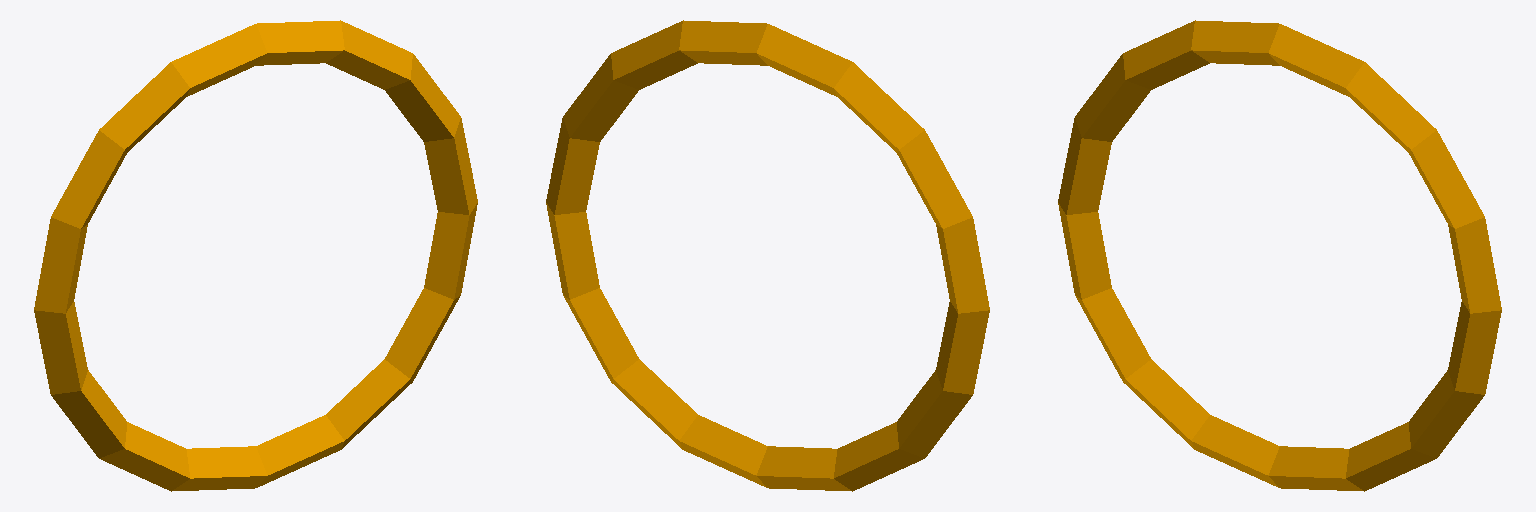
The robot description file, URDF, robot "hoop":
<robot name="hoop" >
    <link name="body">
        <inertial>
            <origin rpy="0 0 0" xyz="0.0 0.0 0.0"/>
            <mass value="1.0"/>
            <inertia ixx="1.0" ixy="0.0" ixz="0.0" iyy="1.0" iyz="0.0" izz="1.0"/>
        </inertial>
        <visual>
            <origin rpy="0 0 0" xyz="0.0 0 0.0"/>
            <geometry name="hoop_visual">
                <mesh filename="hoop.obj" scale="0.5 0.5 0.5"/>
            </geometry>
            <material name="Gray"/>
        </visual>
        <collision>
            <origin rpy="0 0 0" xyz="0.0 0.0 0.0"/>
            <geometry name="hoop_collision">
                <mesh filename="hoop.obj" scale="0.5 0.5 0.5"/>
            </geometry>
        </collision>
    </link>
        
    <material name="Blue">
        <color rgba="0.0 0.0 0.8 1.0"/>
    </material>
    <material name="Green">
        <color rgba="0.0 0.8 0.0 1.0"/>
    </material>
    <material name="Grey">
        <color rgba="0.2 0.2 0.2 1.0"/>
    </material>
    <material name="LightGrey">
        <color rgba="0.6 0.6 0.6 1.0"/>
    </material>
    <material name="Red">
        <color rgba="0.8 0.0 0.0 1.0"/>
    </material>
    <material name="White">
        <color rgba="1.0 1.0 1.0 1.0"/>
    </material>
</robot>

--- What the picture shows (computed from the rendered views, not written in the file) ---
3 views of the same robot in one strip: view 1: azimuth 30°, elevation 25°; view 2: azimuth 150°, elevation 25°; view 3: azimuth 330°, elevation 25° (orthographic).
Robot: hoop — 1 links, 0 joints (none); root link body; default pose: all joints at 0.
Visible links, largest first — view 1: body; view 2: body; view 3: body.
Link boxes in pixels (x1=…): body: x1=34, y1=20, x2=477, y2=491; body: x1=546, y1=20, x2=989, y2=491; body: x1=1058, y1=20, x2=1501, y2=491.
Size in the robot's own frame: 0.22 by 0.02 by 0.22 metres.
Meshes: 1 distinct files referenced, 1 mesh visuals loaded (1 OBJ).